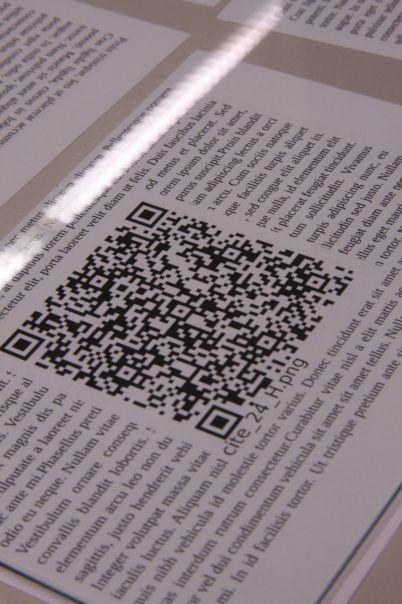Finder pattern: (194, 404, 251, 443), (0, 328, 48, 363), (124, 200, 169, 230)
